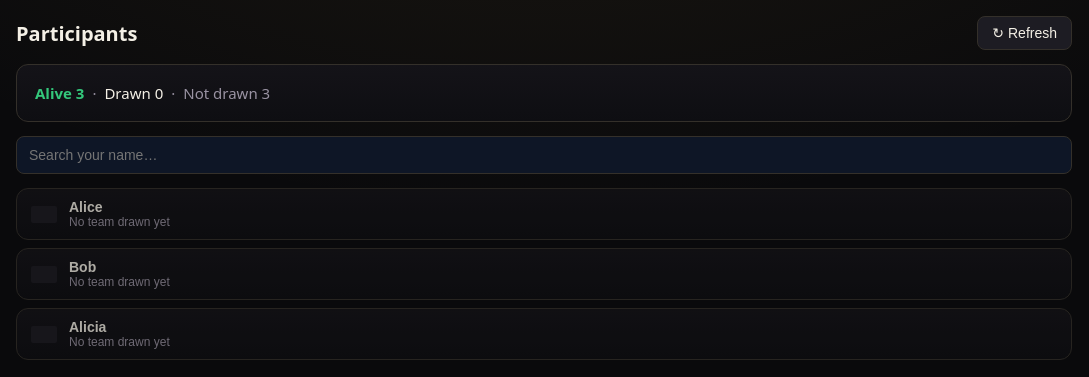
it: HomeView search › filters the participant list by name (case-insensitive)
In the field with class "search": (544, 155) [16, 136, 1072, 174], type "ali"
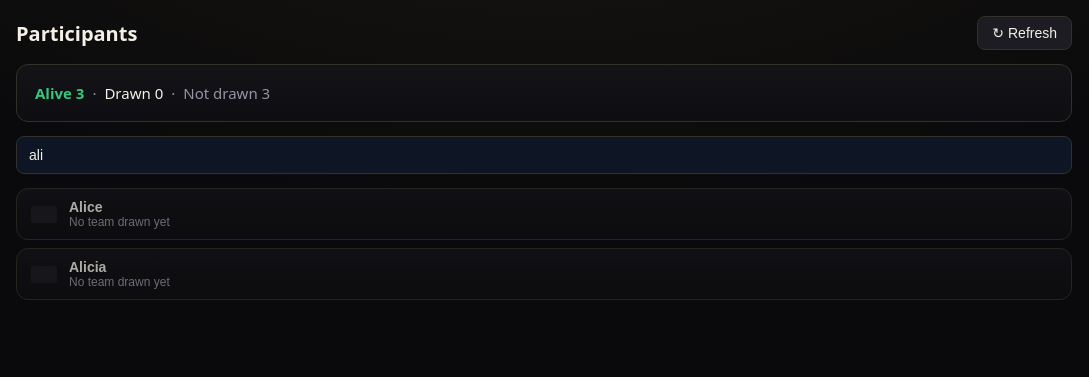
Replace the text in the field with class "search" with "zzz": (544, 155) [16, 136, 1072, 174]
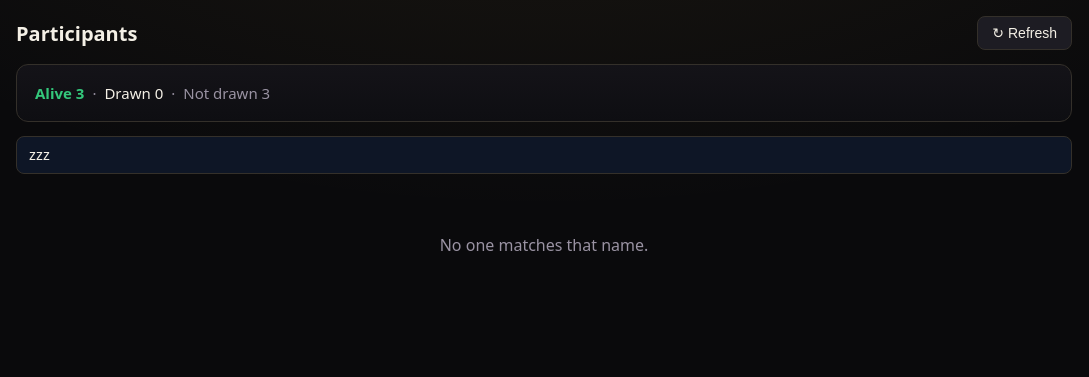
Result: no buttons are shown
